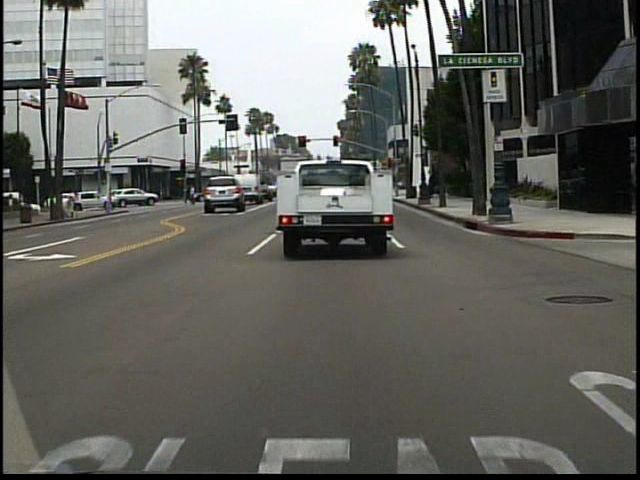person: (73, 188, 86, 214)
